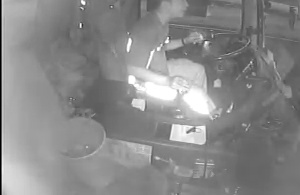paper: (169, 122, 208, 146)
